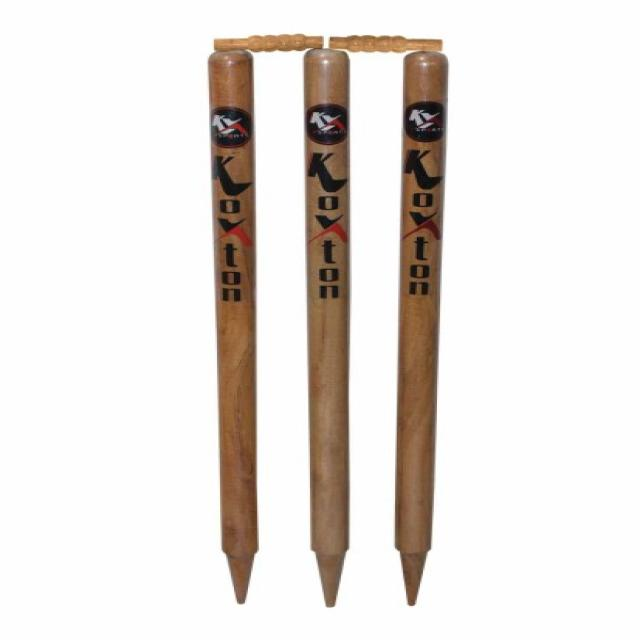stump: (207, 32, 450, 609)
